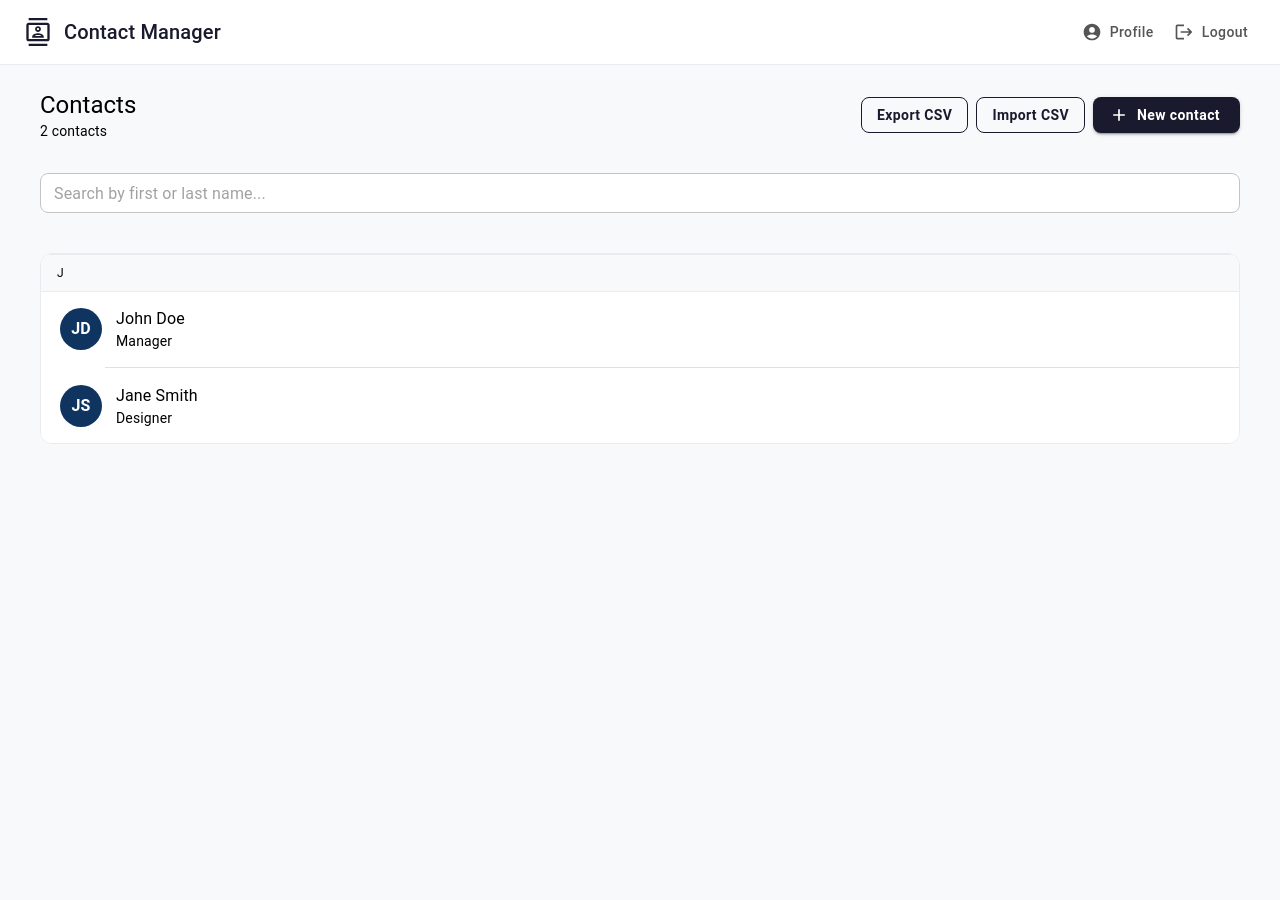
Test case: Contacts Page › opens new contact dialog on button click
The image size is (1280, 900).
Check: the text "John Doe" is shown, box [116,309,185,328]
Click the button "New contact" at [1166, 115], box [1093,97,1240,133]
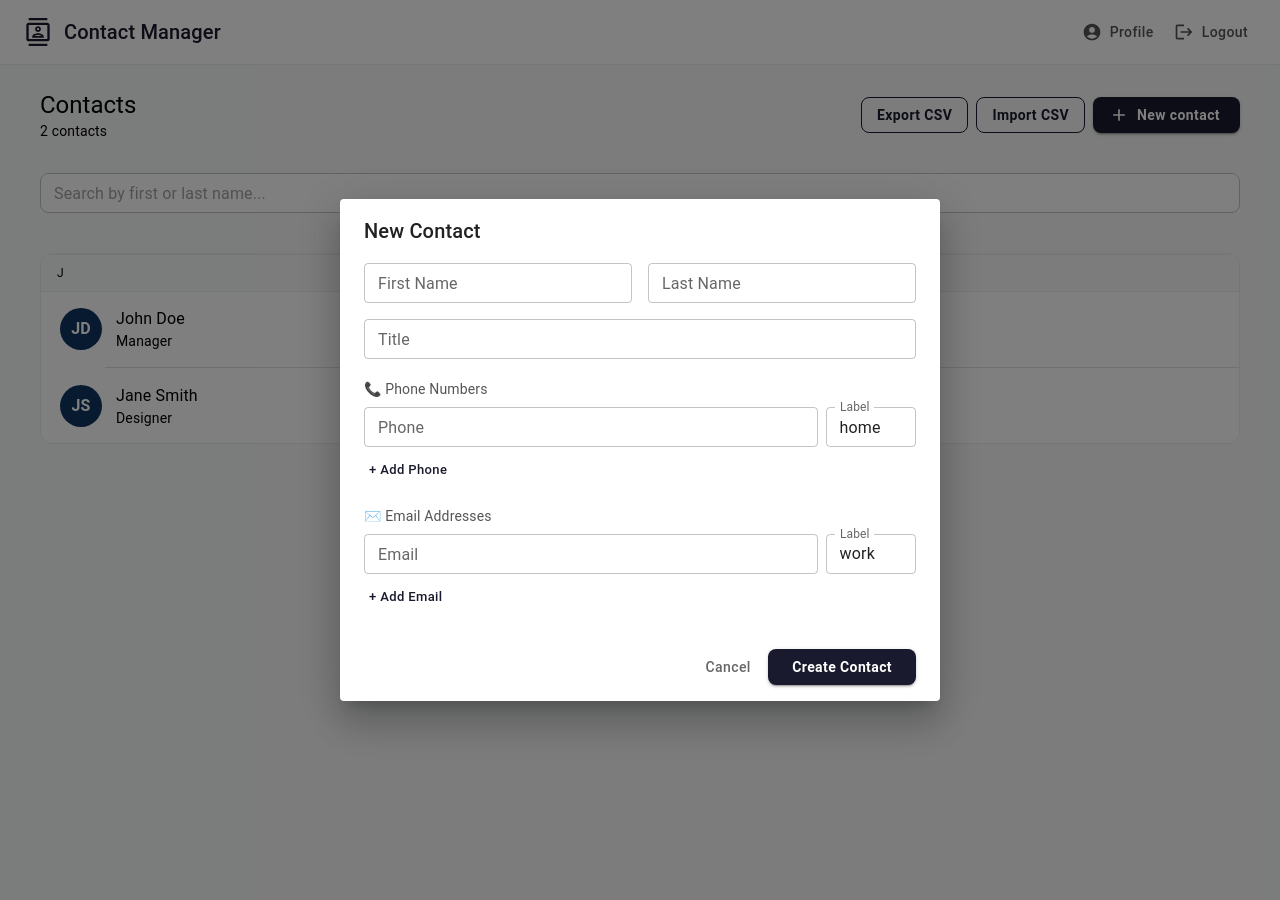
Check: the heading "New Contact" is shown, box [364,219,481,243]
